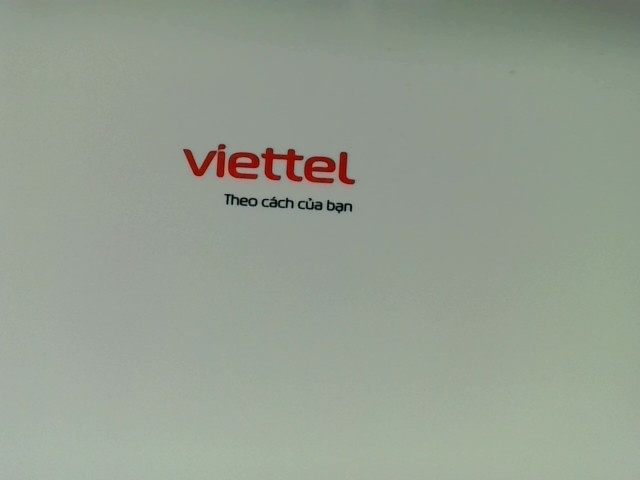AY_Viettel: (180, 143, 358, 219)
